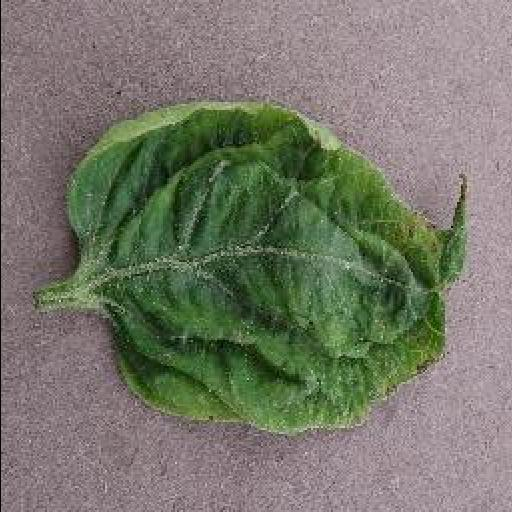disease_tomato: (58, 94, 472, 436)
